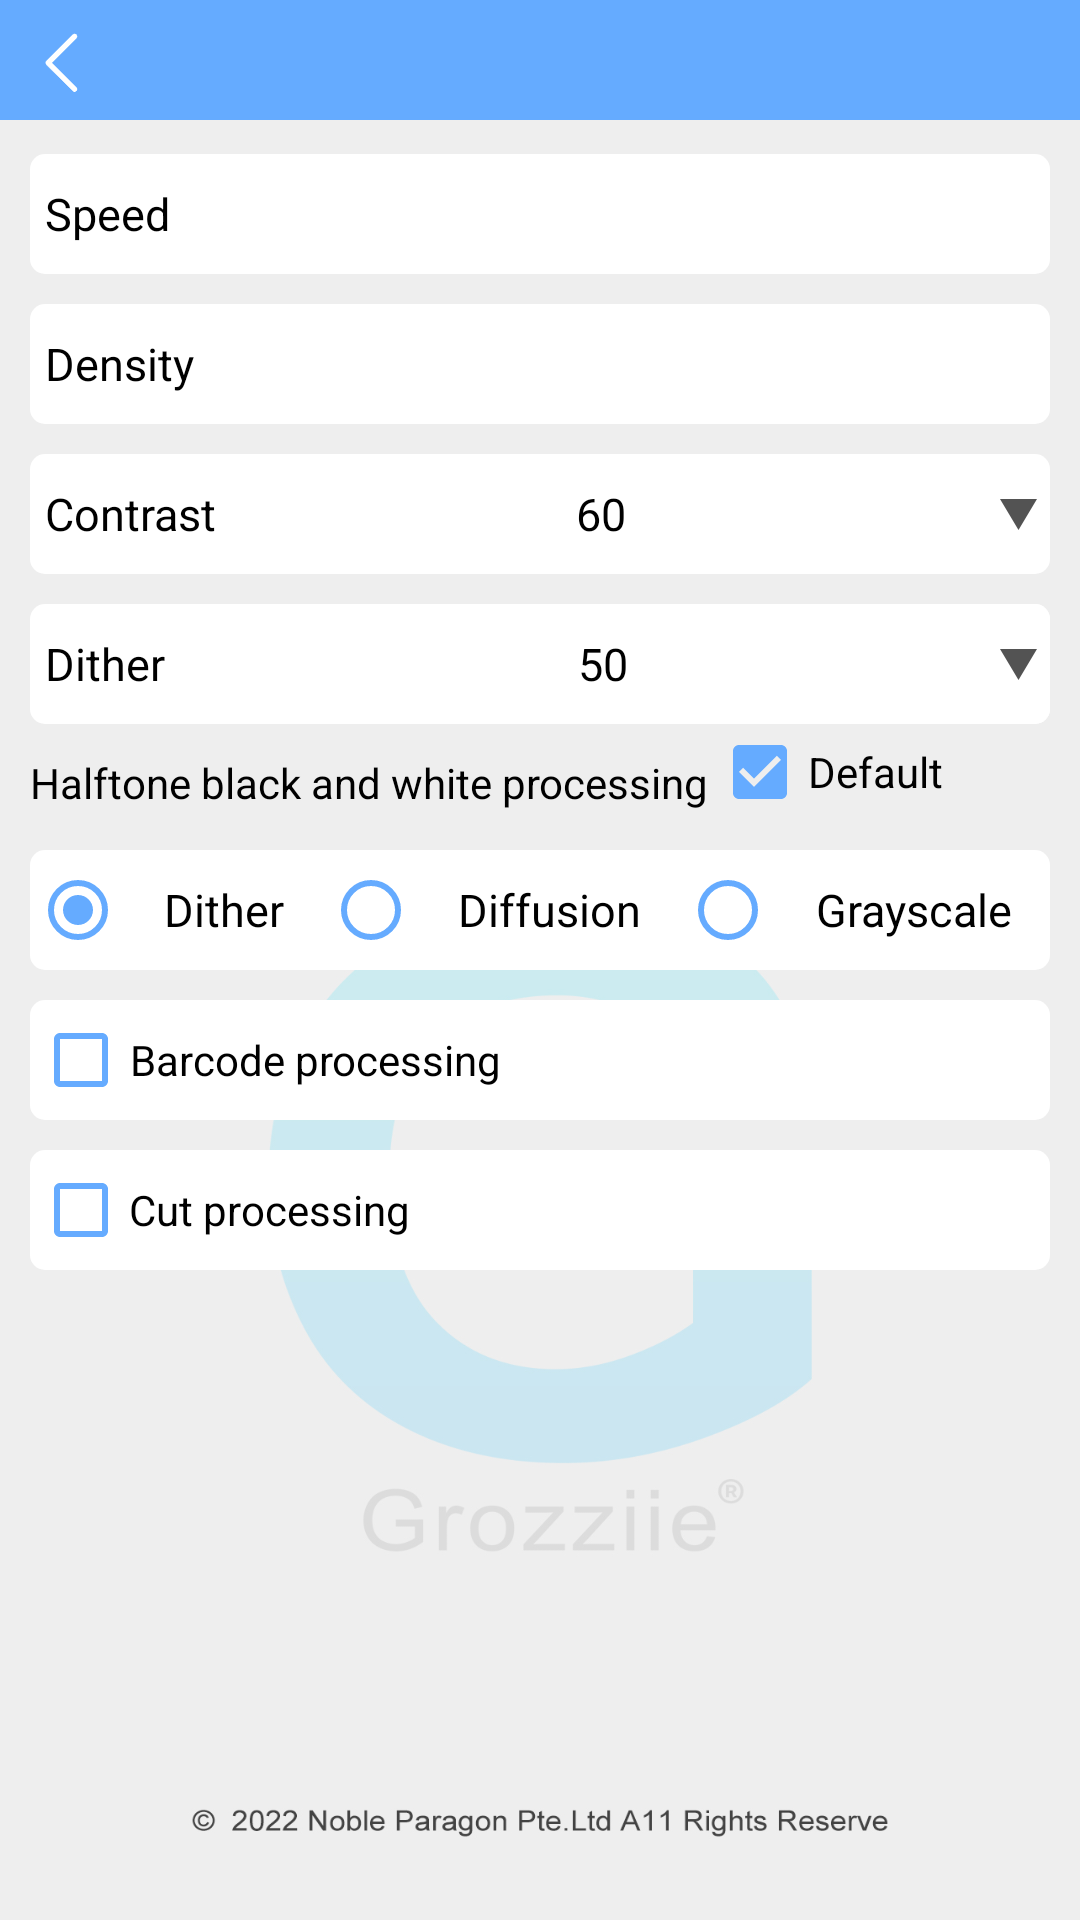

Screen size 1080 x 1920. Icon name, then its center in pixels as [x,y]:
backlast: [61,62]
